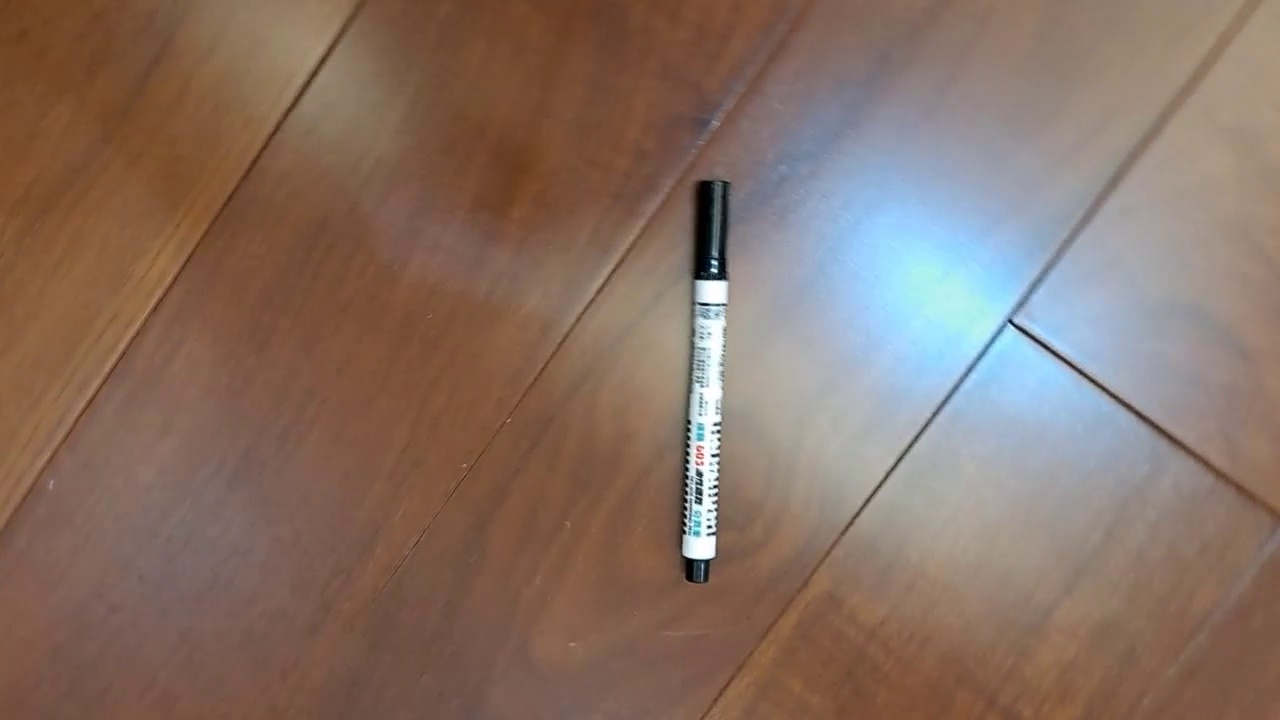pen: (679, 177, 734, 585)
